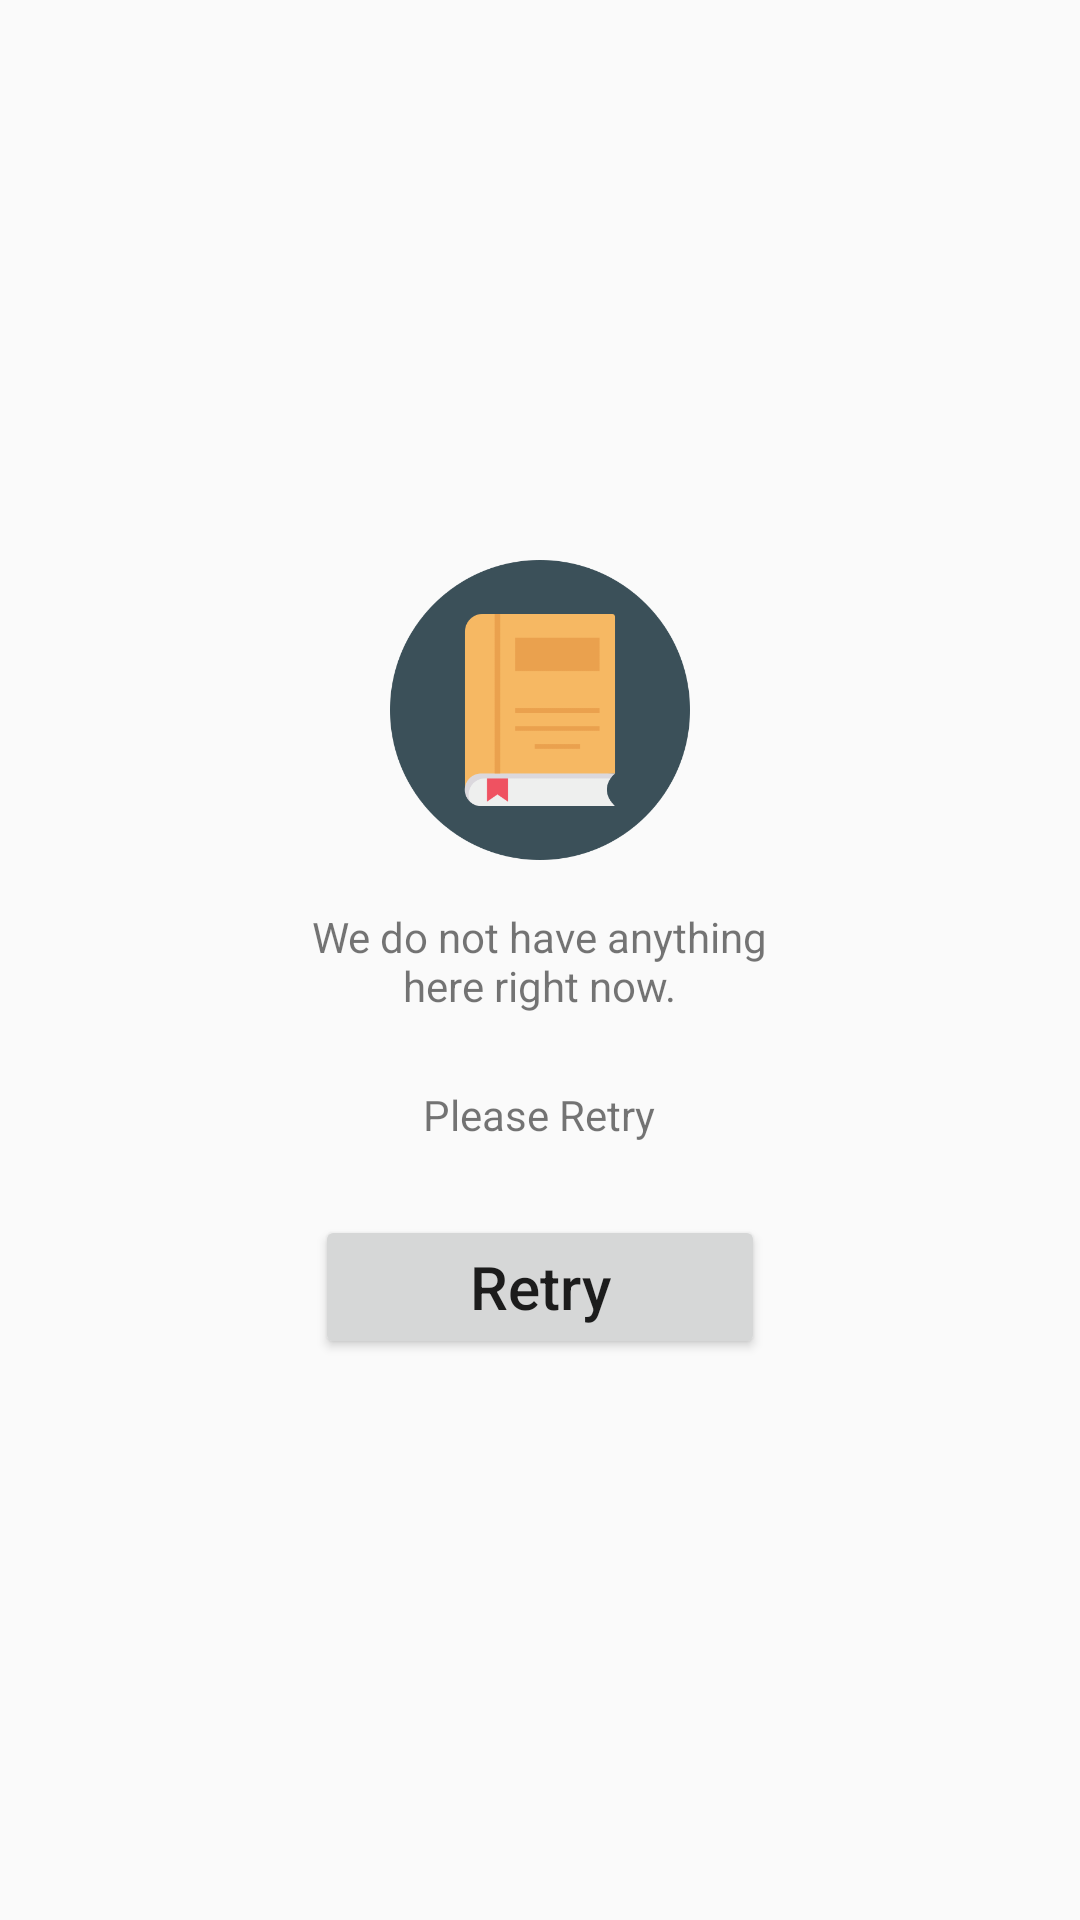

Where to tap for icons on this 1080 x 1920 app screen, as point (x, y):
book: point (540, 710)
